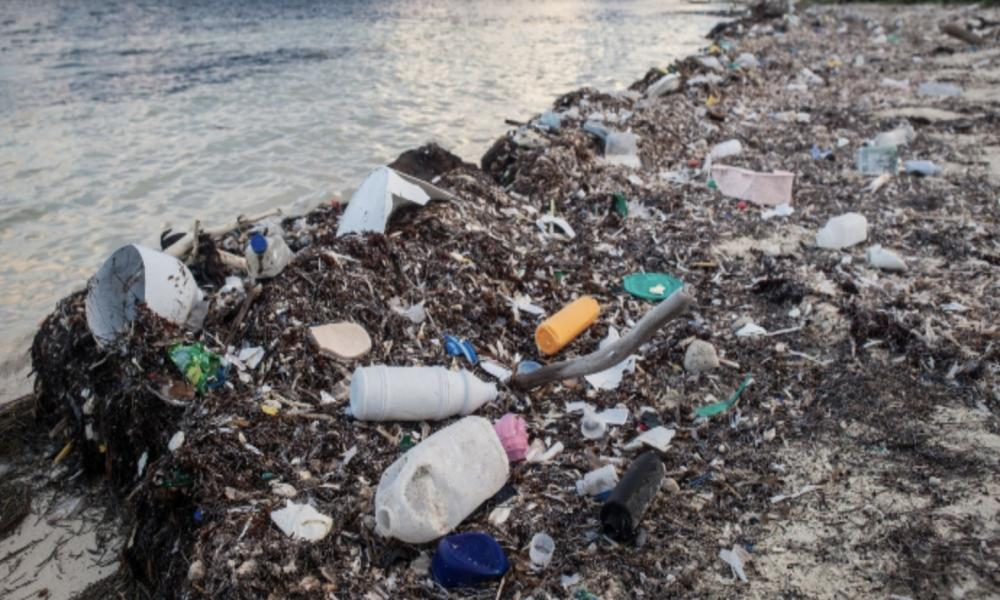carton: (855, 140, 899, 178)
plastic bottle: (376, 424, 509, 540), (347, 363, 497, 417), (535, 296, 600, 352)
